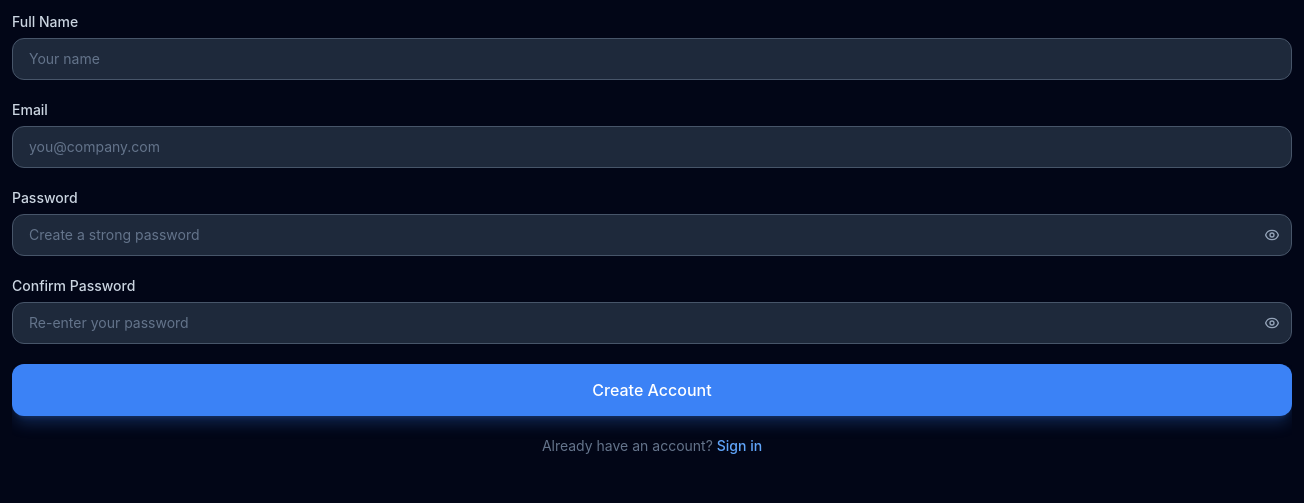
Test: SignupForm › shows password strength indicator when typing
Type "Abc1" into the password field labelled "Password" at (652, 235), box x1=12 y1=214 x2=1292 y2=256
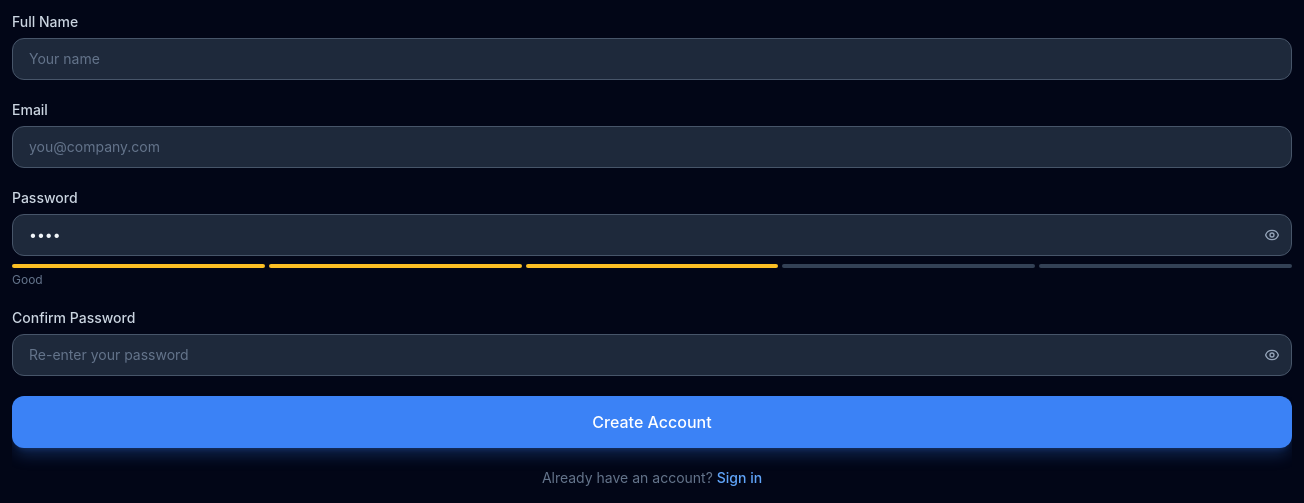
Expected: the text "Good" is shown, x1=12 y1=272 x2=43 y2=287
